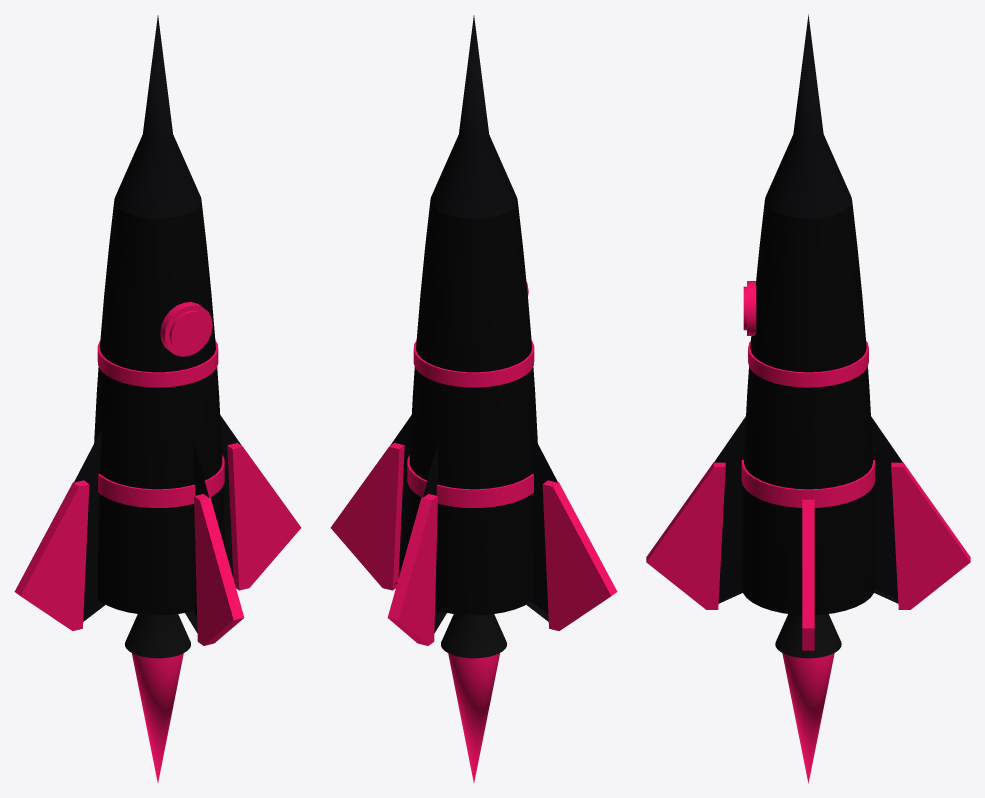
The model's file is Rocket_31_ShadowStriker.obj.
3 views of the same model, side by side, from view 1: azimuth 30°, elevation 25°; view 2: azimuth 150°, elevation 25°; view 3: azimuth 270°, elevation 25° (orthographic).
Parts seen in each view (by area): view 1: R31_Body, R31_Nose, R31_FinGlow_2, R31_FinGlow_4, R31_FinGlow_3, R31_Flame_1, R31_Fin_2, R31_Nozzle_1, R31_Band_1, R31_Band_2, R31_Window_1, R31_Fin_4 (+2 smaller); view 2: R31_Body, R31_Nose, R31_FinGlow_2, R31_FinGlow_4, R31_FinGlow_1, R31_Flame_1, R31_Fin_2, R31_Nozzle_1, R31_Band_1, R31_Band_2, R31_Fin_4, R31_Fin_1; view 3: R31_Body, R31_Nose, R31_FinGlow_1, R31_FinGlow_3, R31_Fin_1, R31_Fin_3, R31_Flame_1, R31_Band_1, R31_Band_2, R31_Nozzle_1, R31_FinGlow_4.
Boxes of the visible parts, left/top/right/bottom form: R31_Body: left=94, top=200, right=224, bottom=615; R31_Nose: left=114, top=15, right=201, bottom=218; R31_FinGlow_2: left=14, top=480, right=89, bottom=630; R31_FinGlow_4: left=227, top=443, right=301, bottom=590; R31_FinGlow_3: left=194, top=494, right=244, bottom=645; R31_Flame_1: left=132, top=653, right=183, bottom=782; R31_Fin_2: left=74, top=429, right=105, bottom=621; R31_Nozzle_1: left=125, top=614, right=190, bottom=658; R31_Band_1: left=98, top=454, right=224, bottom=507; R31_Band_2: left=97, top=340, right=218, bottom=387; R31_Window_1: left=169, top=310, right=209, bottom=352; R31_Fin_4: left=220, top=415, right=241, bottom=584; R31_Body: left=407, top=200, right=537, bottom=615; R31_Nose: left=430, top=15, right=517, bottom=218; R31_FinGlow_2: left=542, top=480, right=617, bottom=630; R31_FinGlow_4: left=330, top=443, right=404, bottom=590; R31_FinGlow_1: left=387, top=494, right=437, bottom=645; R31_Flame_1: left=448, top=653, right=499, bottom=782; R31_Fin_2: left=526, top=429, right=557, bottom=621; R31_Nozzle_1: left=441, top=614, right=506, bottom=658; R31_Band_1: left=407, top=454, right=533, bottom=507; R31_Band_2: left=413, top=340, right=534, bottom=387; R31_Fin_4: left=390, top=415, right=411, bottom=584; R31_Fin_1: left=422, top=440, right=446, bottom=633; R31_Body: left=741, top=200, right=875, bottom=614; R31_Nose: left=765, top=14, right=851, bottom=218; R31_FinGlow_1: left=891, top=462, right=970, bottom=609; R31_FinGlow_3: left=646, top=462, right=725, bottom=609; R31_Fin_1: left=871, top=416, right=902, bottom=603; R31_Fin_3: left=714, top=416, right=745, bottom=603; R31_Flame_1: left=782, top=653, right=834, bottom=783; R31_Band_1: left=741, top=460, right=875, bottom=507; R31_Band_2: left=748, top=341, right=868, bottom=387; R31_Nozzle_1: left=775, top=614, right=841, bottom=658; R31_FinGlow_4: left=802, top=499, right=814, bottom=650.
Bounding box in the file's own units: 4.1 × 10.75 × 4.1.
